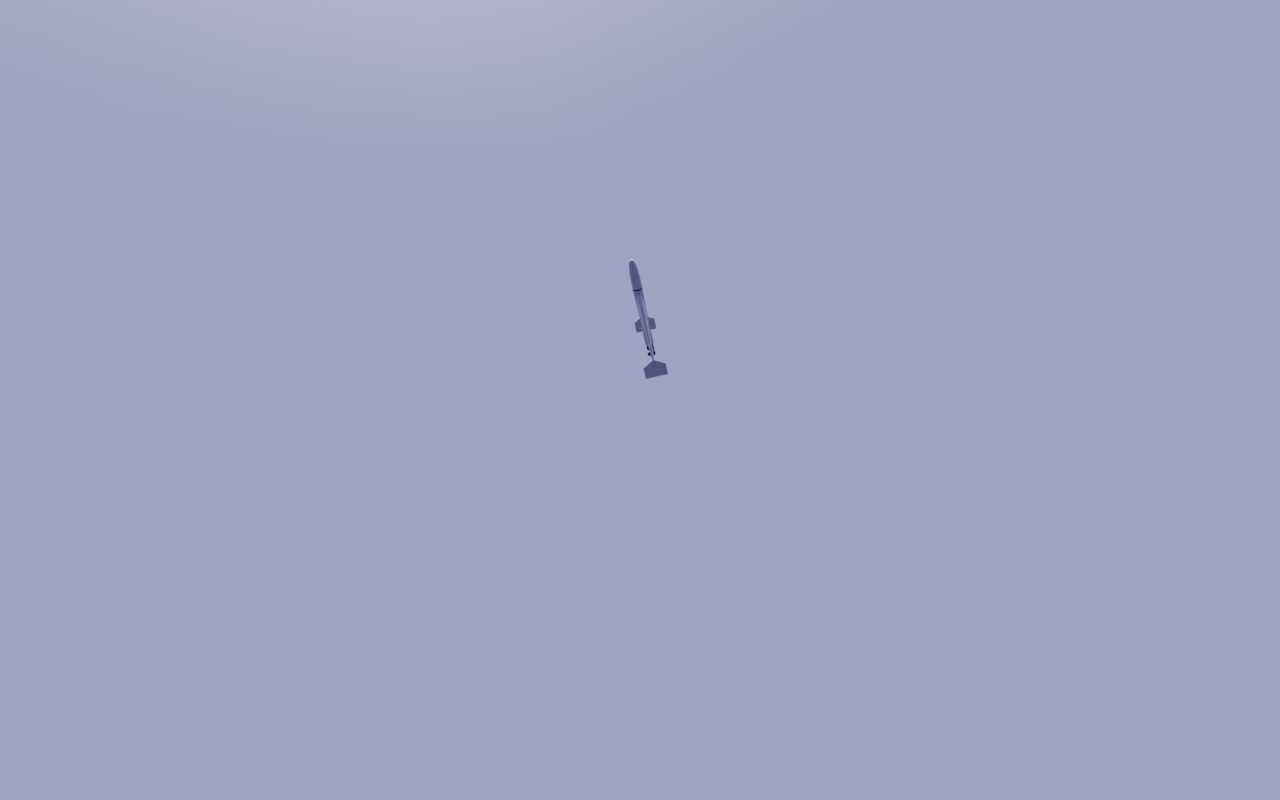shahed: (629, 260, 670, 381)
